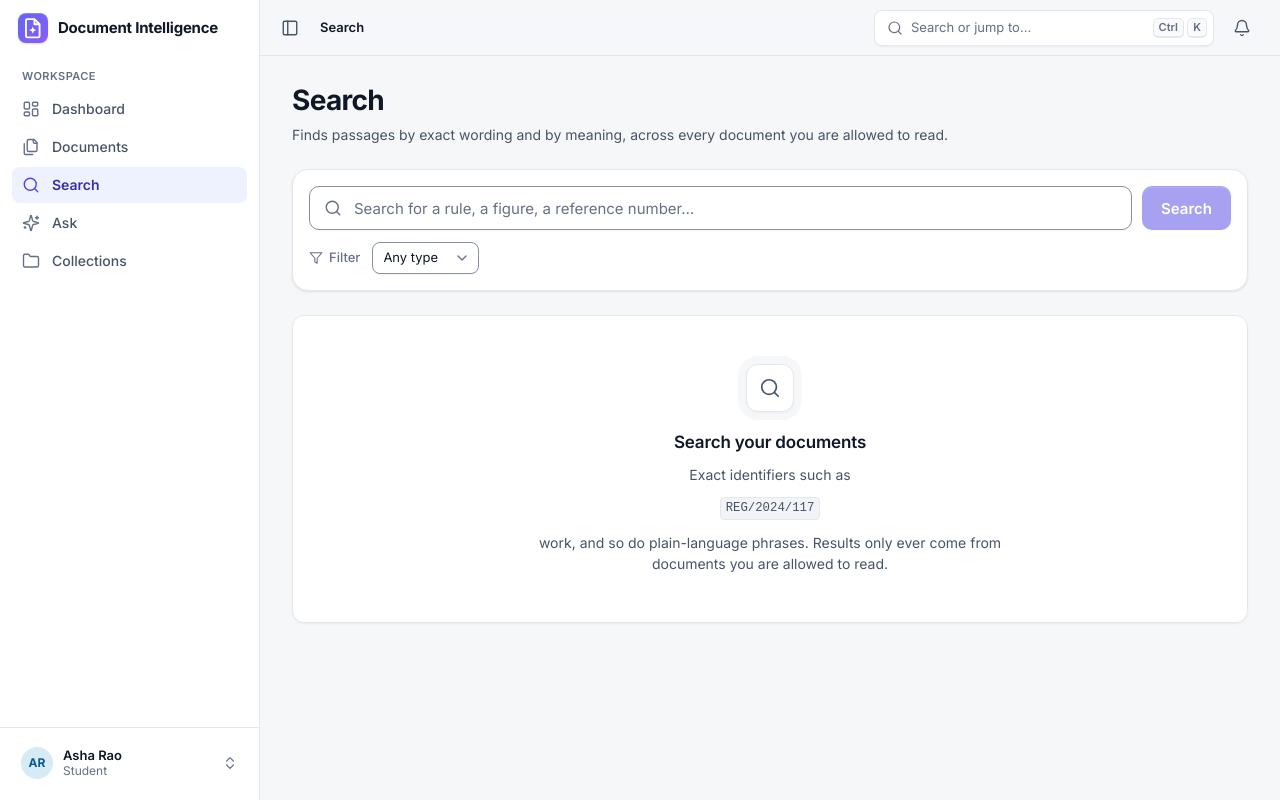
search results by document › groups by itself when the server sent no groups
Type "fees" into the search field named "Search documents" at x=721, y=208, box [309,186,1132,230]
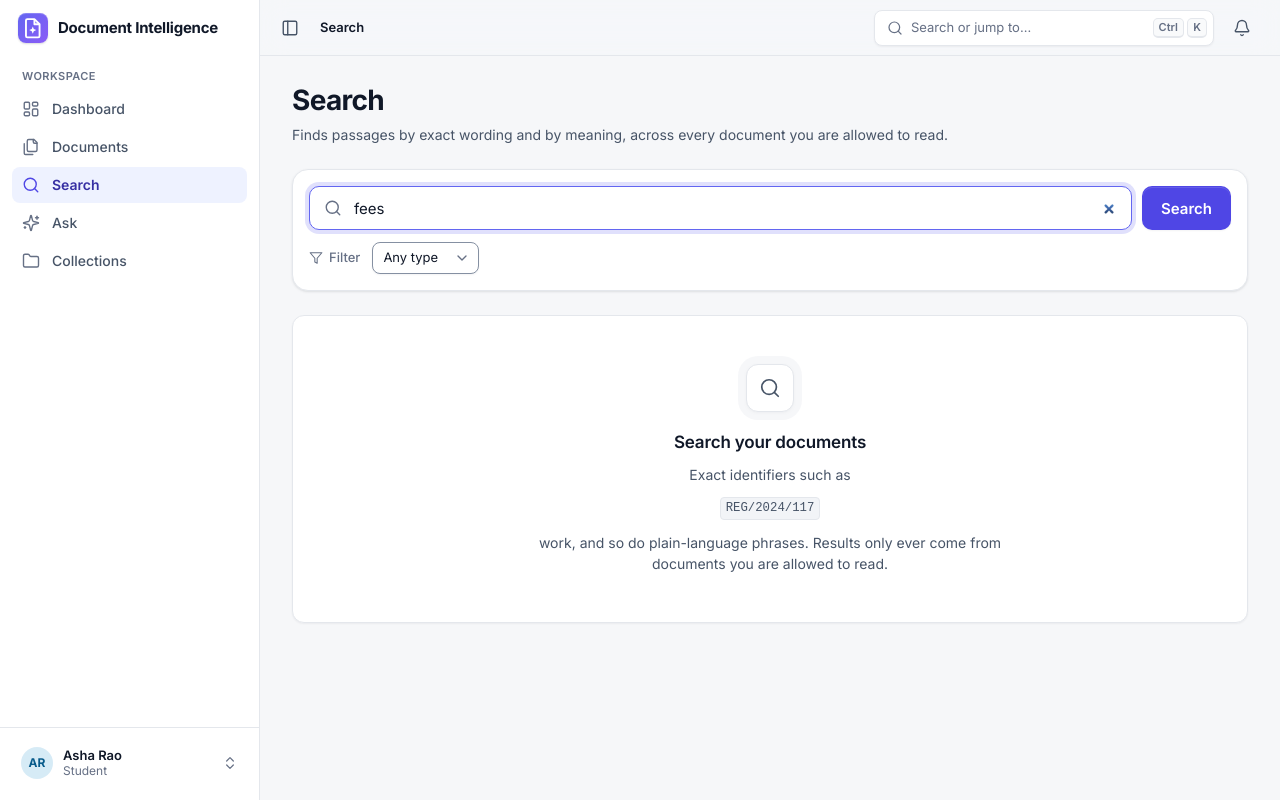
Click the button "Search" at x=1187, y=208, box [1142,186,1231,230]
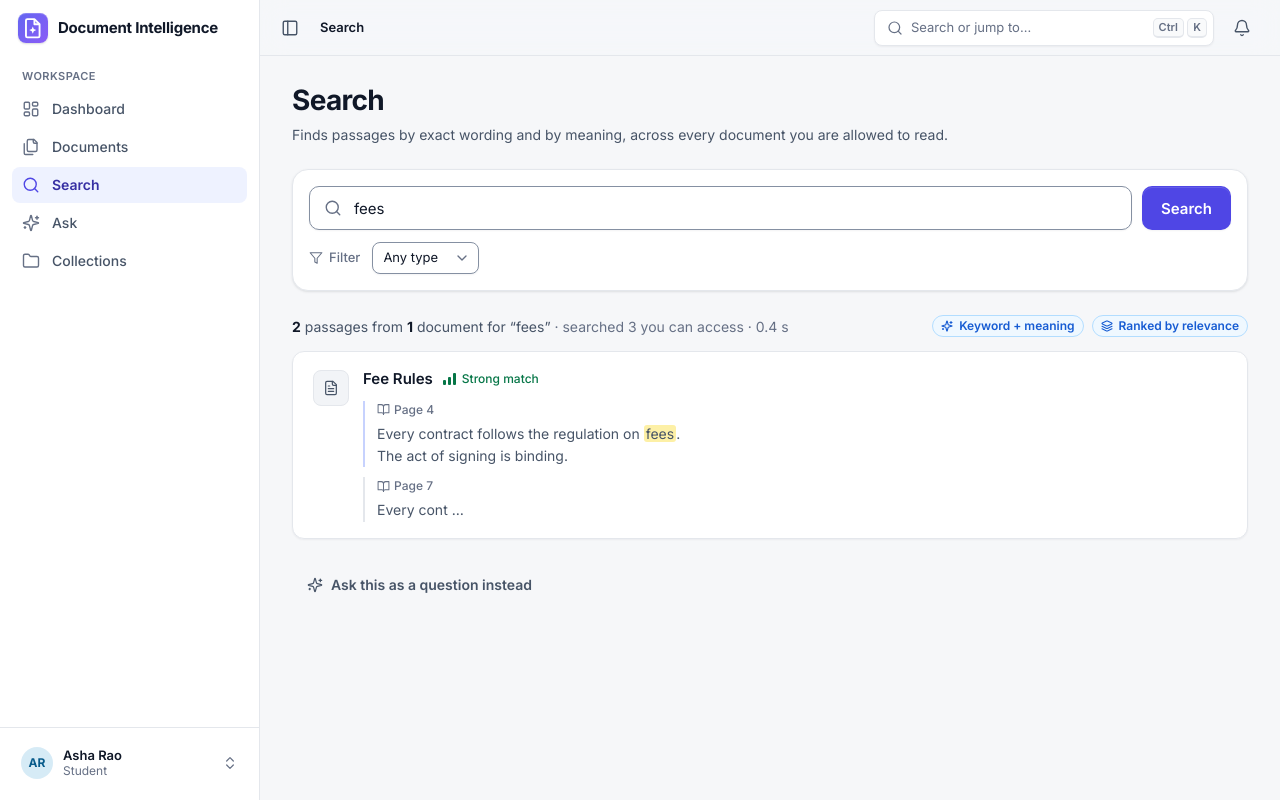
Now the number of list items with class "result-passage" is 2, box [363,401,1227,468]; [363,478,1227,522]
Now the number of links "Fee Rules" is 1, box [363,368,433,391]
